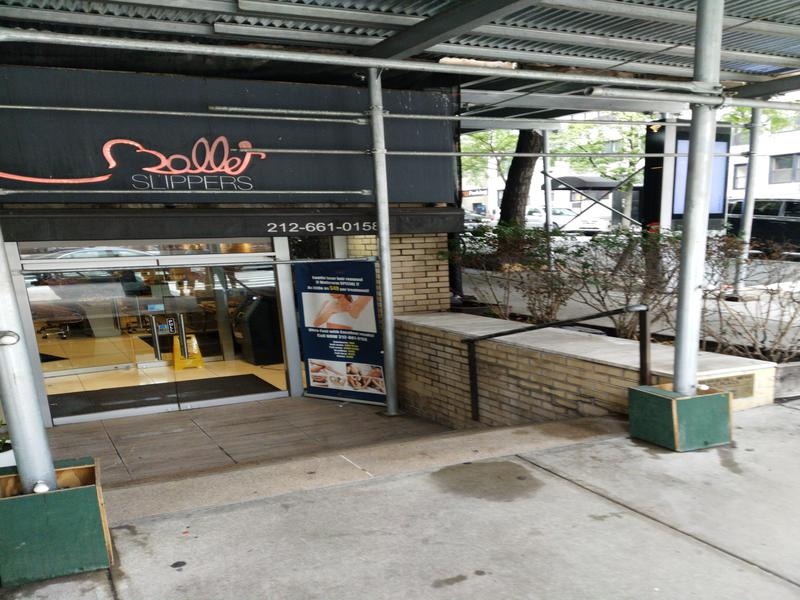double_door: (21, 252, 314, 417)
